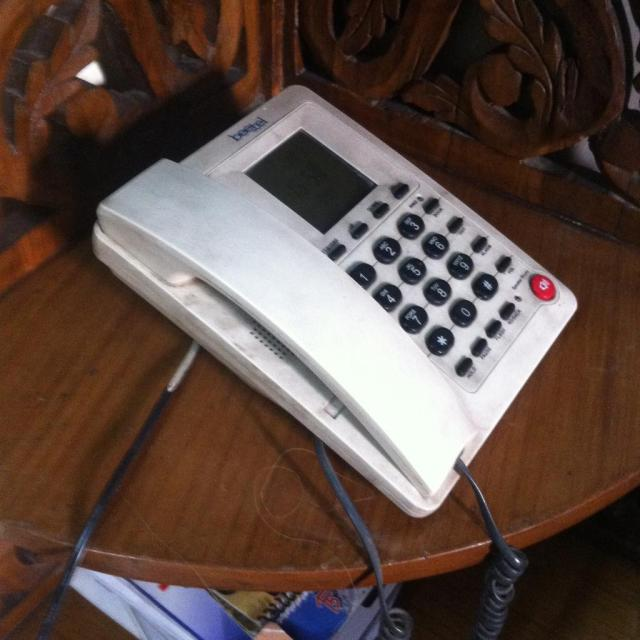Phone: (88, 87, 580, 637)
